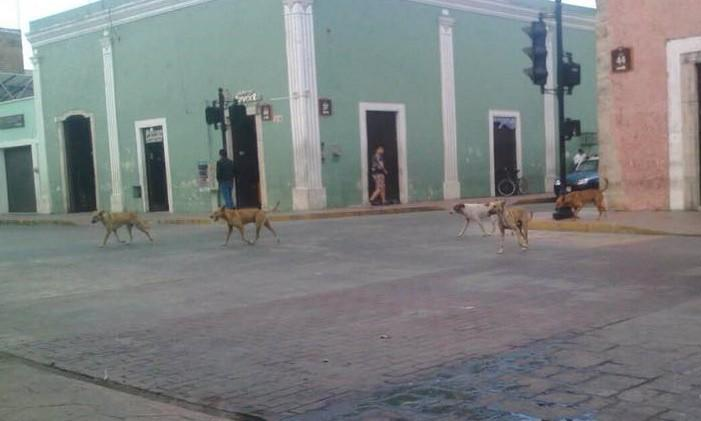normal_dogs: (210, 202, 288, 246), (86, 204, 157, 250), (486, 199, 540, 255), (551, 176, 614, 224), (449, 197, 502, 237)
